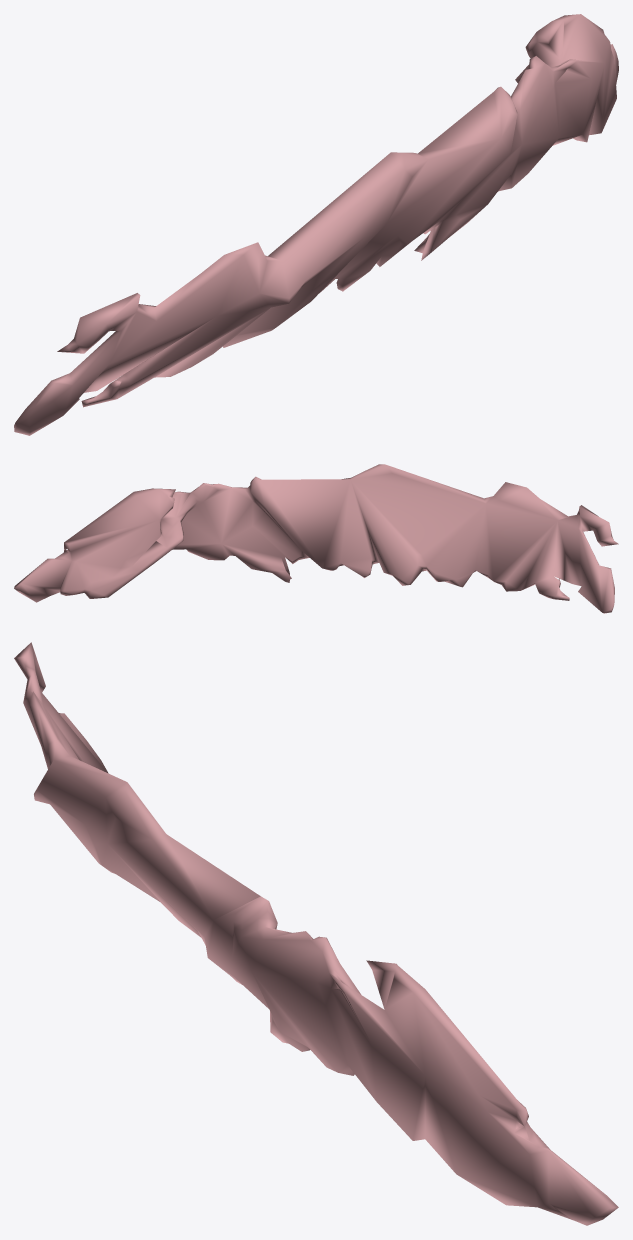
3 renders of one model, top to bottom at view 1: azimuth 30°, elevation 25°; view 2: azimuth 150°, elevation 25°; view 3: azimuth 270°, elevation 25°, orthographic. The views are drawn at different scales.
Visible parts, largest first — view 1: ZA_ce833b7a3f4bfcb4; view 2: ZA_ce833b7a3f4bfcb4; view 3: ZA_ce833b7a3f4bfcb4.
Boxes of the visible parts, x1,y1,x2,y2 form: ZA_ce833b7a3f4bfcb4: (14, 14, 618, 435); ZA_ce833b7a3f4bfcb4: (14, 464, 618, 613); ZA_ce833b7a3f4bfcb4: (14, 642, 618, 1225).
Bounding box in the file's own units: 0.0408 × 0.00919 × 0.0229.
